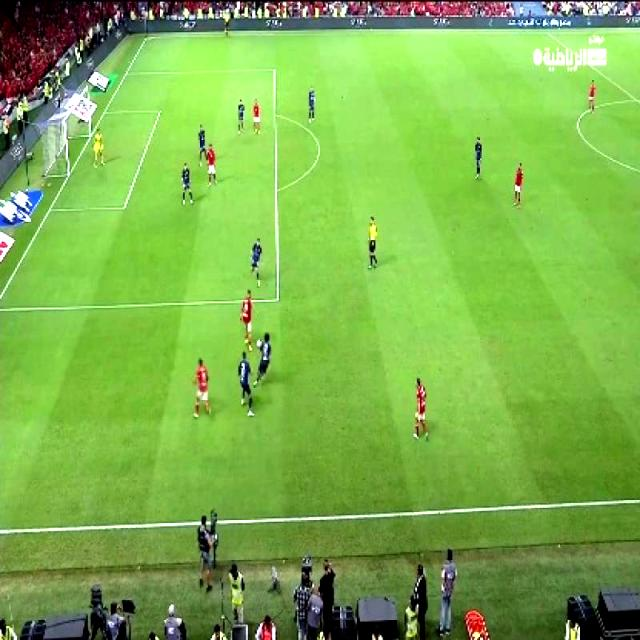bigarea_bottom_inner: (270, 291, 280, 306)
bigarea_top_inner: (271, 63, 277, 74)
bigarea_top_outter: (122, 68, 134, 79)
bottom_arc_area_intersection: (272, 183, 278, 194)
corner: (143, 31, 152, 37)
halfcircle_top: (631, 94, 639, 105)
midline_top_intersection: (538, 26, 558, 40)
smallarea_bottom_inner: (117, 198, 128, 214)
smallarea_bottom_outter: (44, 202, 54, 212)
smallarea_top_inner: (155, 106, 163, 117)
smallarea_top_outter: (99, 106, 111, 120)
top_arc_area_intersection: (269, 108, 277, 119)
